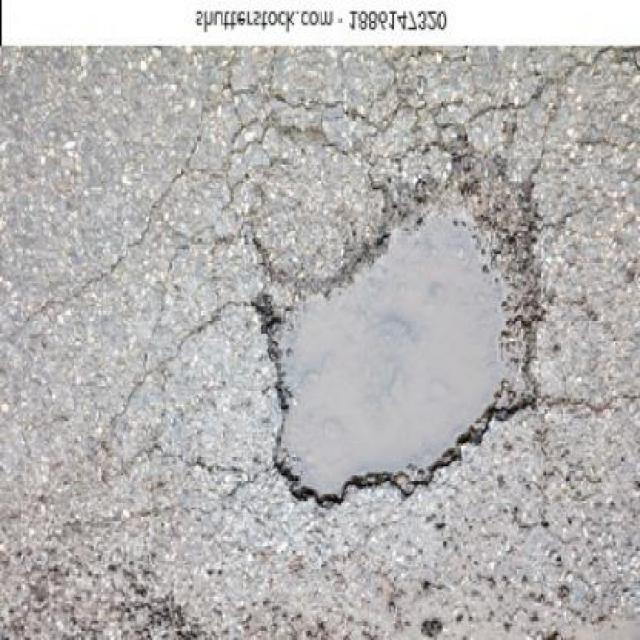pothole: (220, 130, 586, 561)
